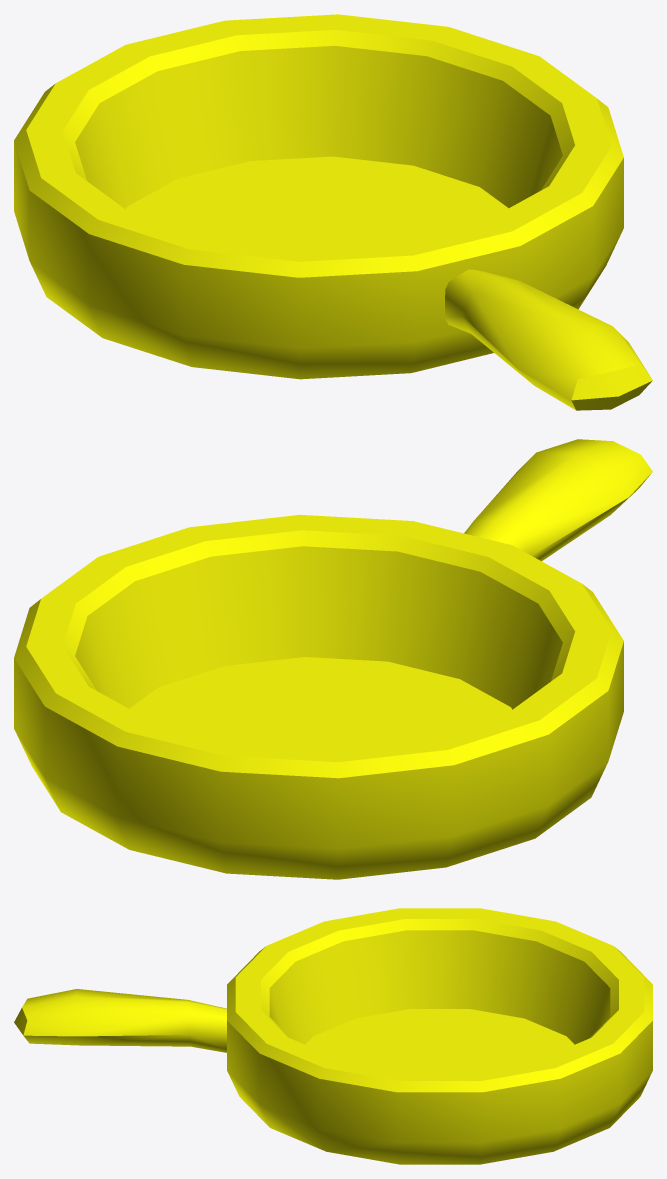
File: kaykit-pan-b.glb
The picture shows the model from 3 angles, top to bottom: view 1: azimuth 30°, elevation 25°; view 2: azimuth 150°, elevation 25°; view 3: azimuth 270°, elevation 25°; orthographic projection. The views are drawn at different scales.
Parts seen in each view (by area): view 1: pan_B; view 2: pan_B; view 3: pan_B.
Boxes of the visible parts, left/top/right/bottom form: pan_B: left=14, top=14, right=652, bottom=410; pan_B: left=14, top=439, right=652, bottom=879; pan_B: left=14, top=908, right=652, bottom=1164.
Size of the model in its own units: 1 by 0.2499 by 1.5.
